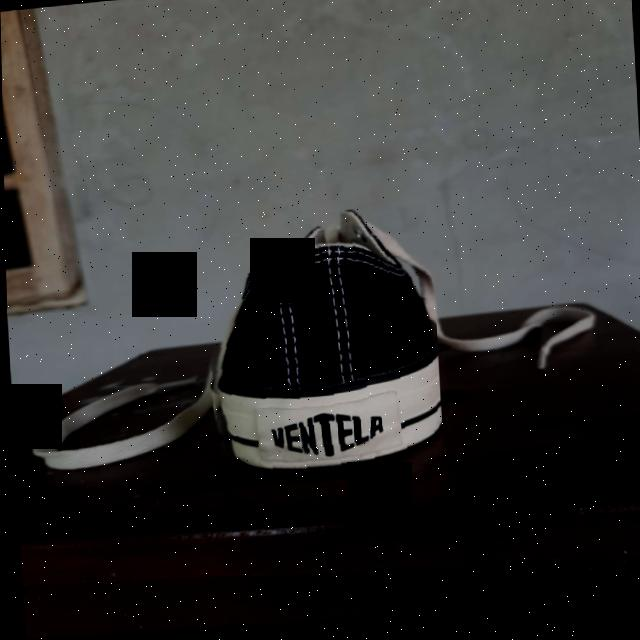shoe: (195, 207, 442, 489)
